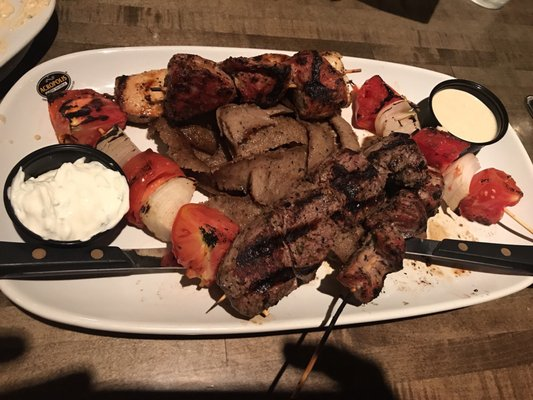sandwich: (403, 237, 533, 280)
sushi: (2, 143, 130, 248), (0, 0, 58, 70)
